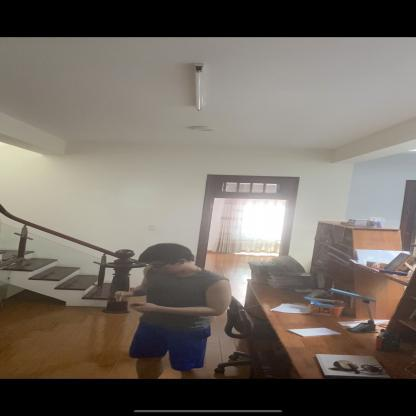cigarette: (118, 292, 125, 301)
person: (110, 243, 233, 379)
